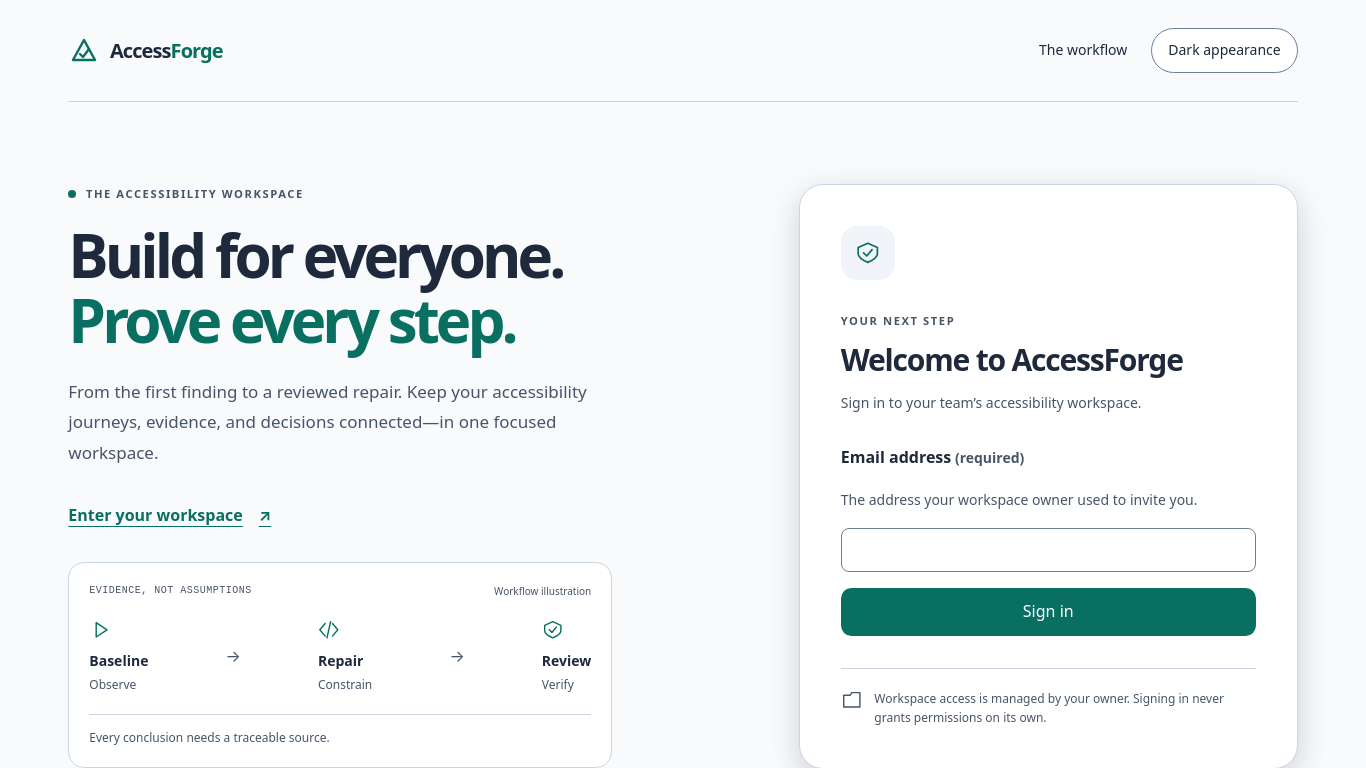
Scenario: sign-in › moves focus once to the error summary after a failed submission, and keeps the value
In the field labelled "Email address (required)": (1048, 550) [841,528,1256,572], type "engineer@example.test"
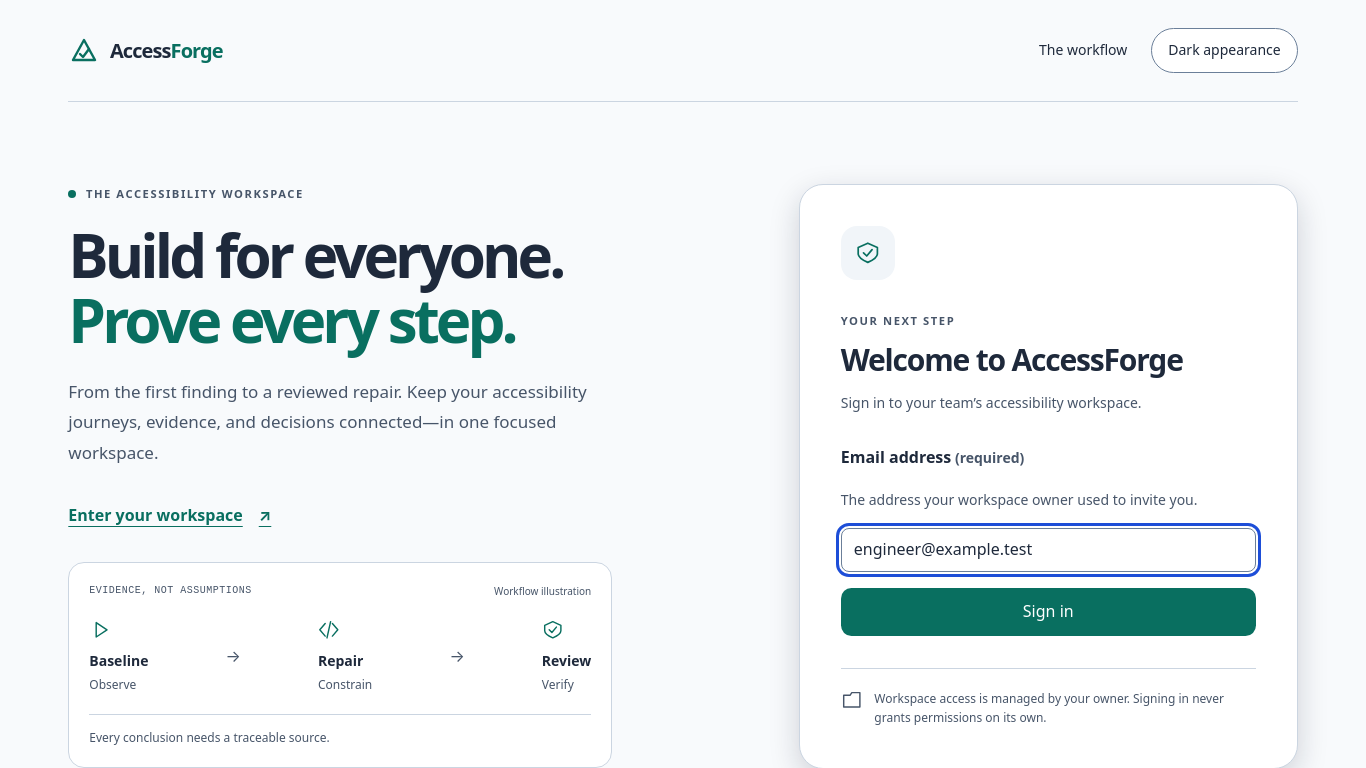
Click the button "Sign in": (1048, 612) [841,588,1256,636]
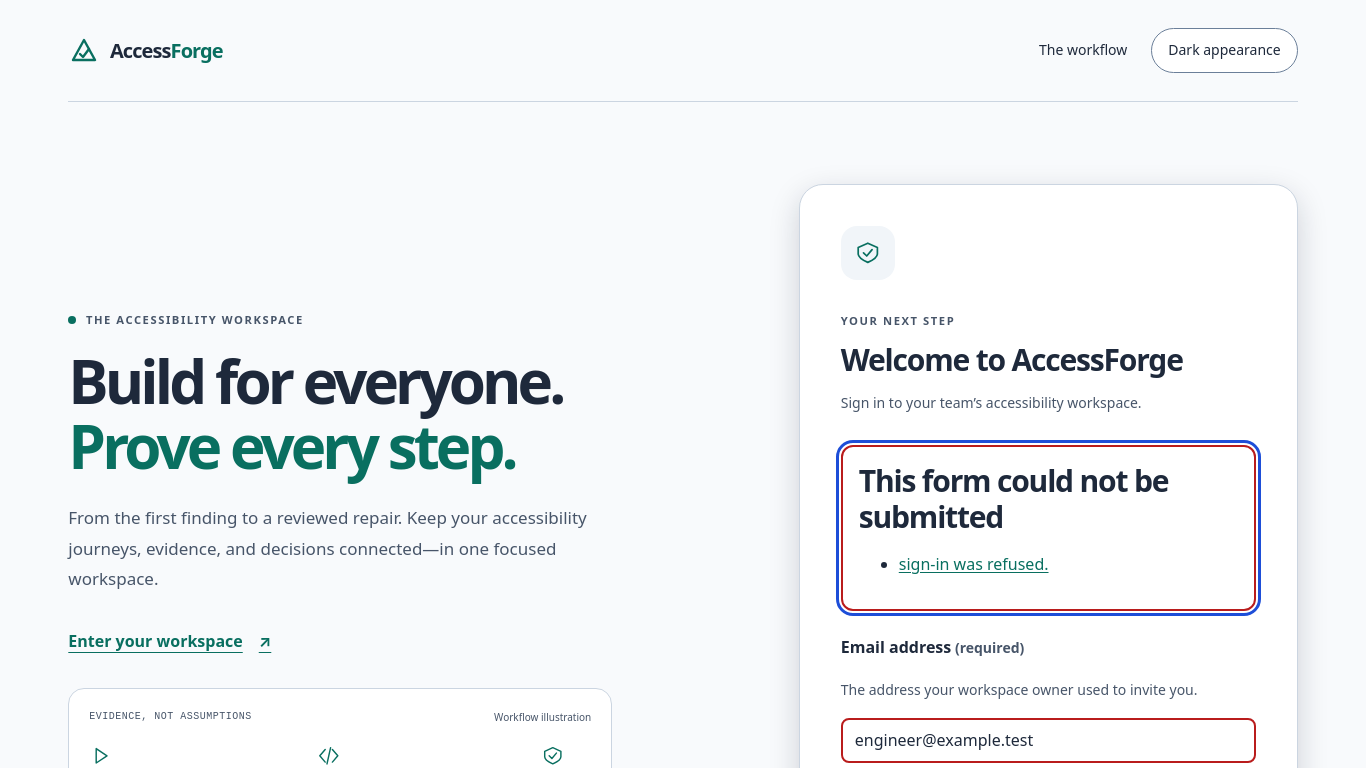
Result: the link "sign-in was refused." is shown at [899,552,1049,574]
